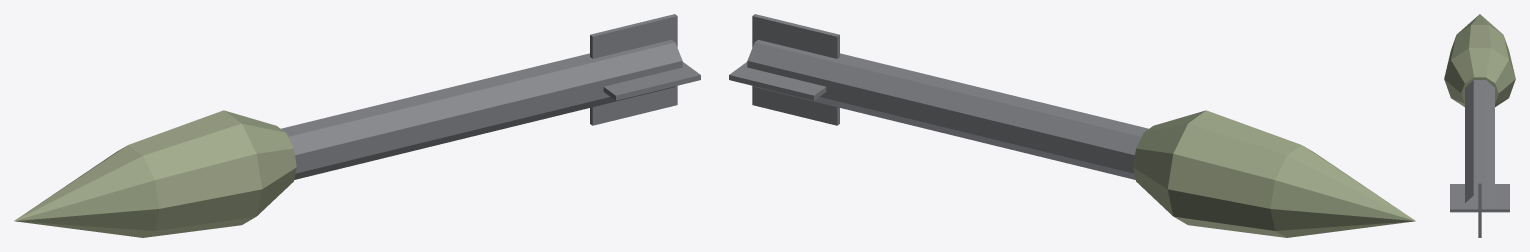
The model's file is rocket.gltf.
3 views of the same model, side by side, from view 1: azimuth 30°, elevation 25°; view 2: azimuth 150°, elevation 25°; view 3: azimuth 270°, elevation 25° (orthographic). The views are drawn at different scales.
Parts seen in each view (by area): view 1: rocket; view 2: rocket; view 3: rocket.
Boxes of the visible parts, x1,y1,x2,y2 form: rocket: [14, 14, 700, 237]; rocket: [729, 14, 1415, 237]; rocket: [1444, 14, 1515, 237].
Bounding box in the file's own units: 0.545 × 0.0799 × 0.084.
